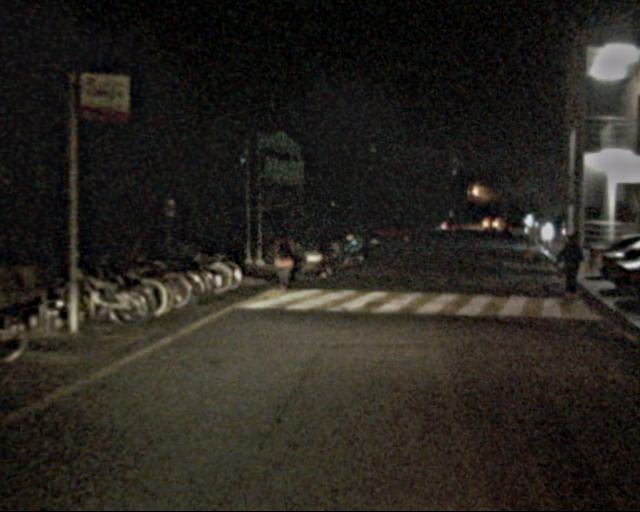person: (269, 228, 298, 299), (555, 236, 584, 306), (315, 221, 339, 280)
